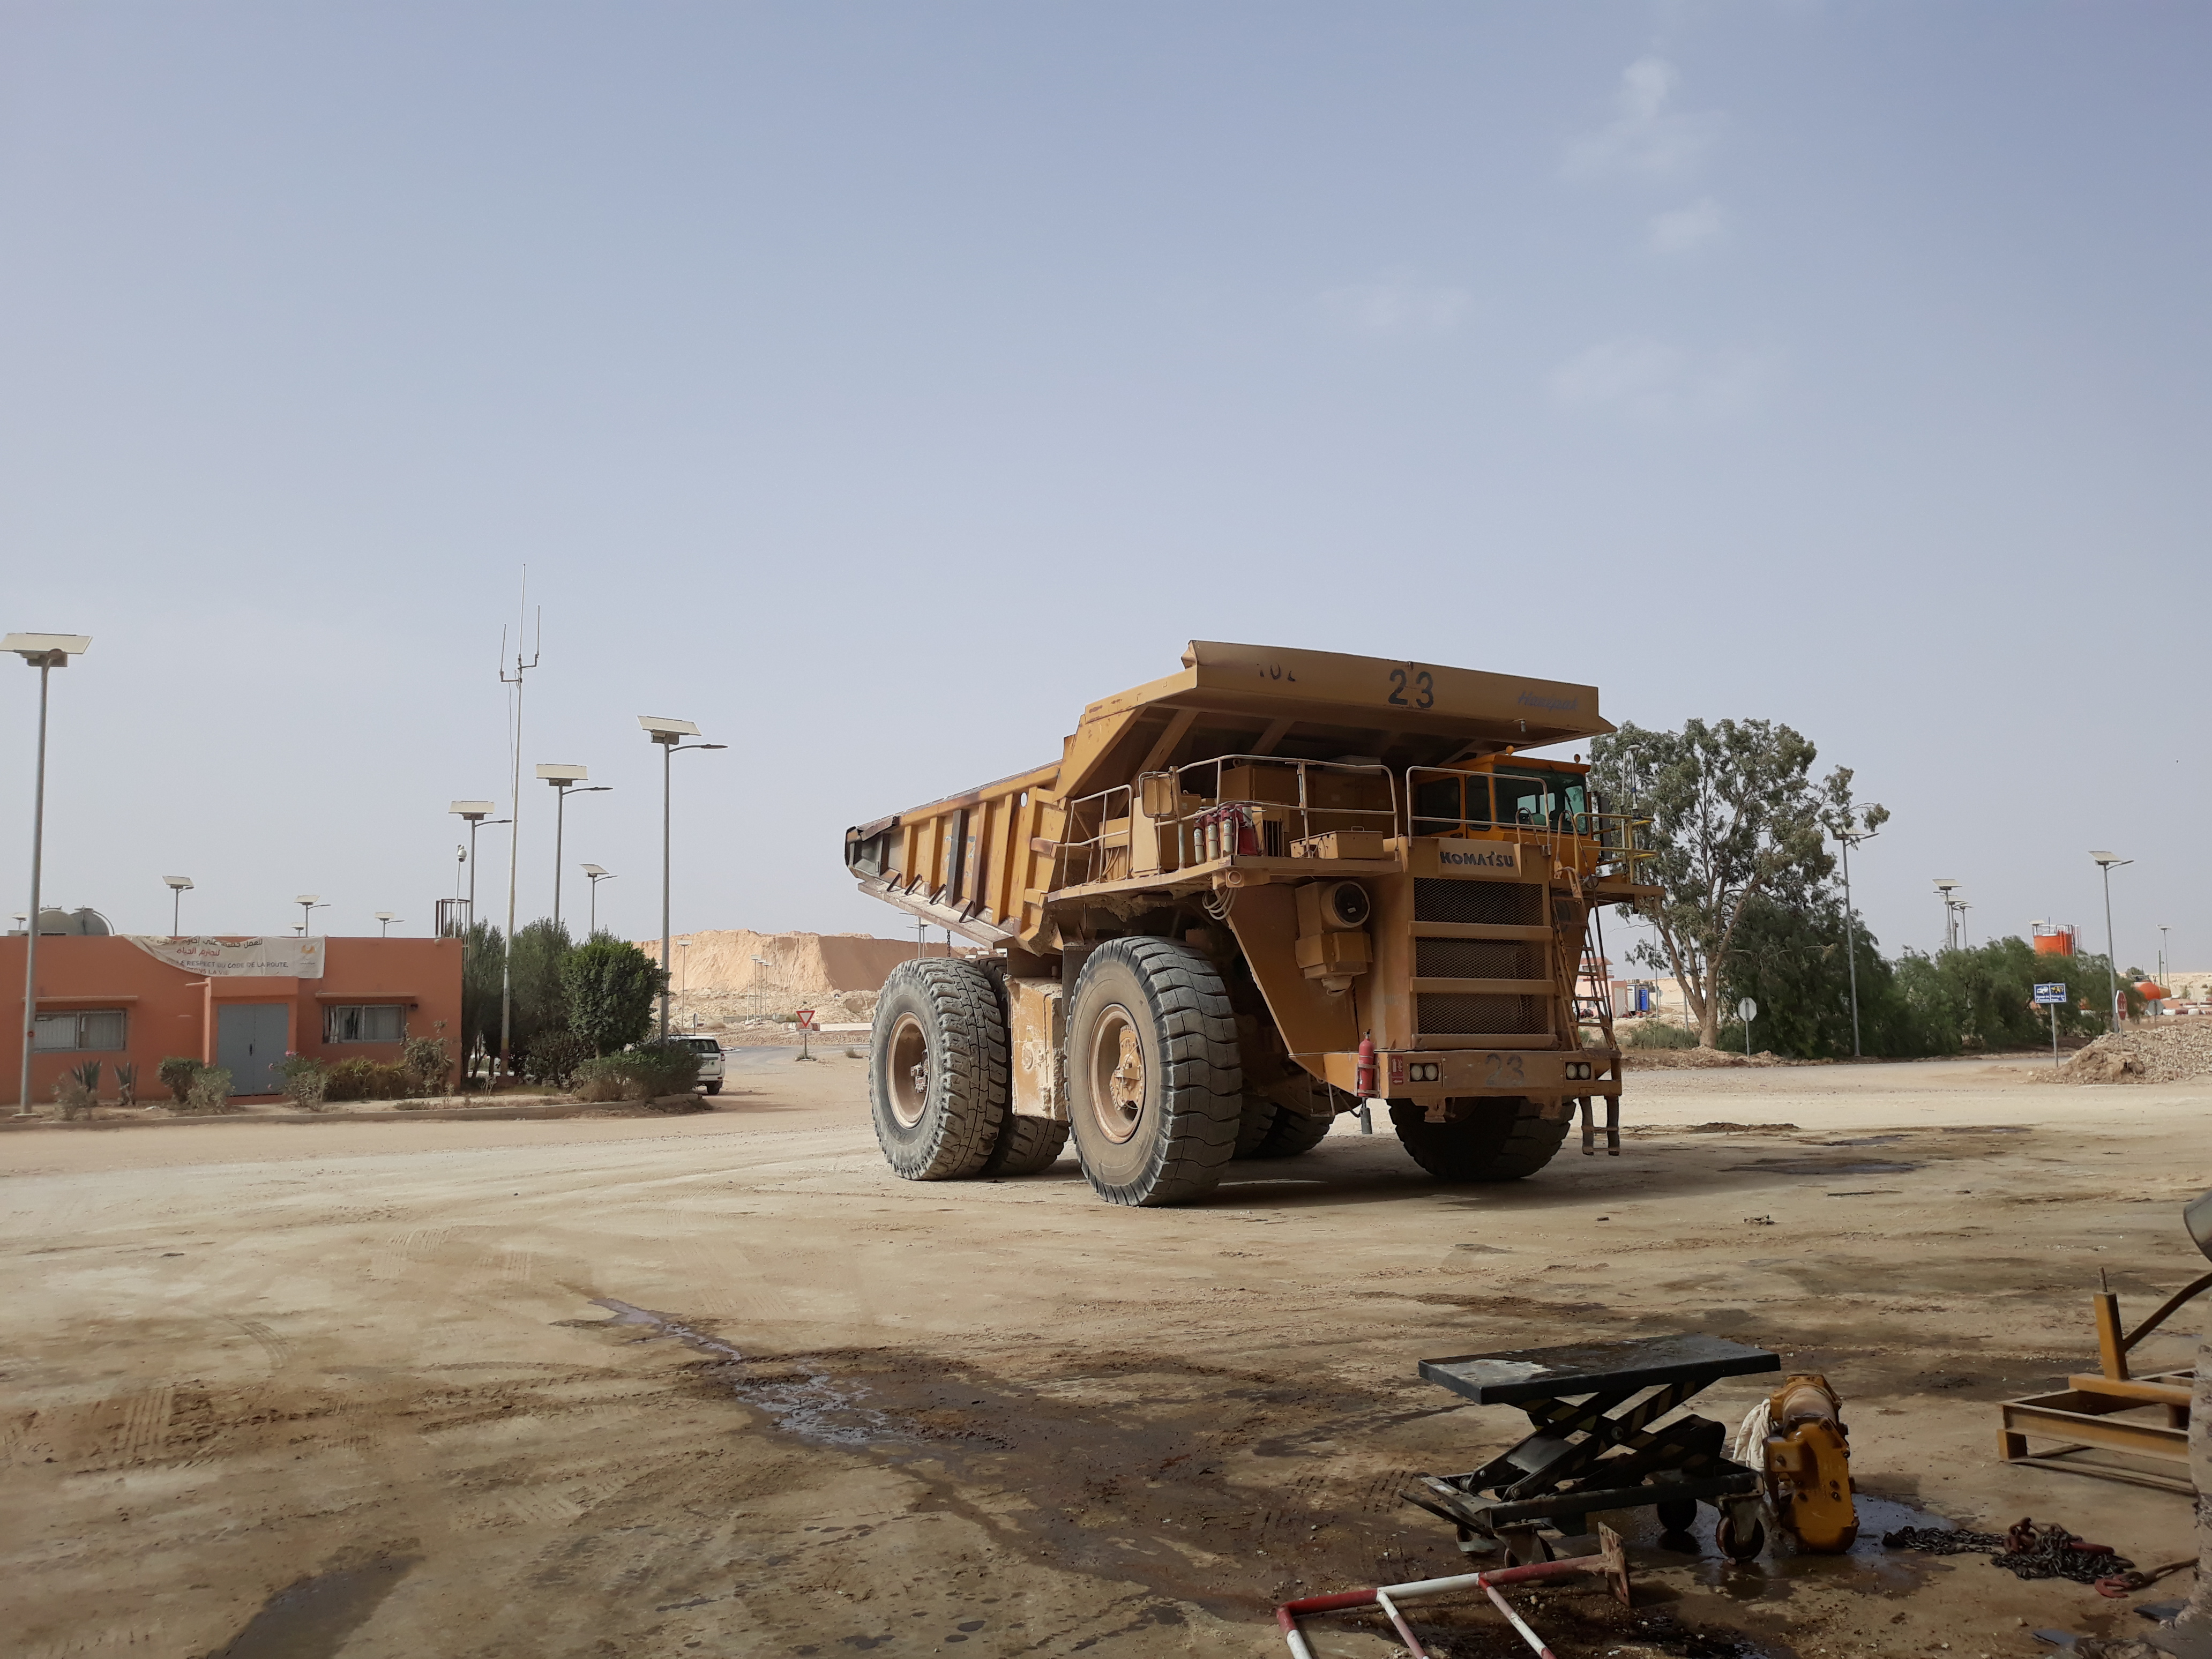camion: (827, 634, 1653, 1213)
car: (641, 1012, 725, 1115)
